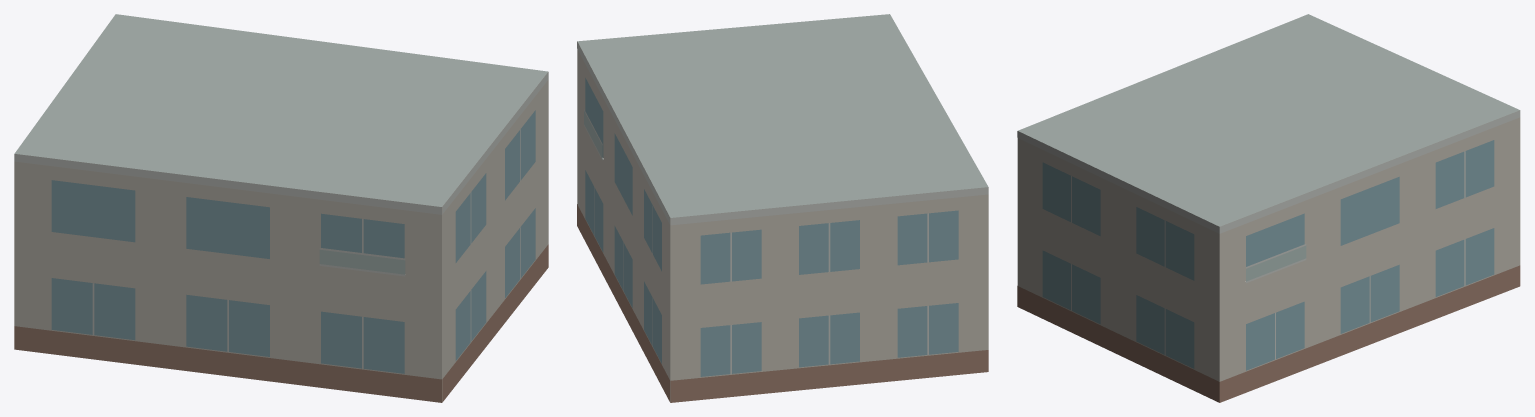
Rendered from survey-upis-32669463.glb.
3 renders of one model, left to right at view 1: azimuth 30°, elevation 25°; view 2: azimuth 150°, elevation 25°; view 3: azimuth 270°, elevation 25°, orthographic. The views are drawn at different scales.
Visible parts, largest first — view 1: survey-upis-32669463.tmp; view 2: survey-upis-32669463.tmp; view 3: survey-upis-32669463.tmp.
Part boxes in pixels (left/top/right/bottom): survey-upis-32669463.tmp: left=14, top=14, right=548, bottom=402; survey-upis-32669463.tmp: left=577, top=14, right=988, bottom=402; survey-upis-32669463.tmp: left=1017, top=14, right=1520, bottom=402.
Bounding box in the file's own units: 15.82 × 6.1 × 15.79.
